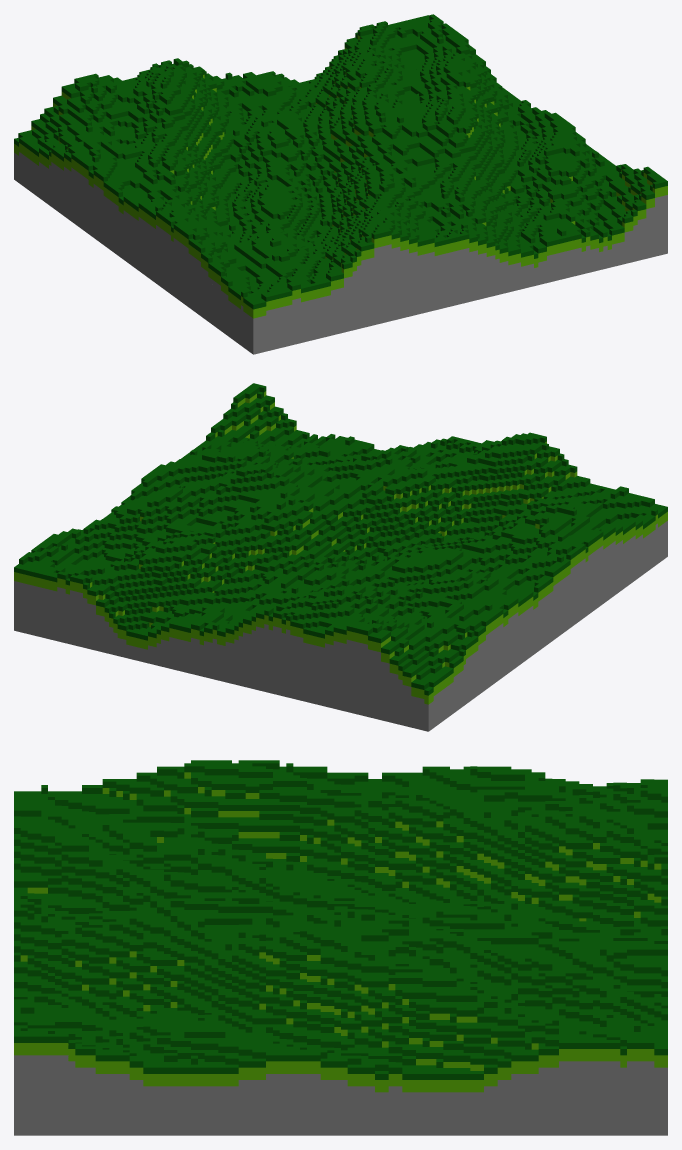
Rendered from demo.obj.
The picture shows the model from 3 angles, top to bottom: view 1: azimuth 30°, elevation 25°; view 2: azimuth 150°, elevation 25°; view 3: azimuth 270°, elevation 25°; orthographic projection. The views are drawn at different scales.
Parts seen in each view (by area): view 1: demo; view 2: demo; view 3: demo.
Part boxes in pixels (box(x1,y1,x2,y2)): demo: box(14, 14, 667, 354); demo: box(14, 383, 667, 731); demo: box(14, 760, 667, 1135).
Size of the model in its own units: 96 by 20 by 96.
1 material, 1 textured.
